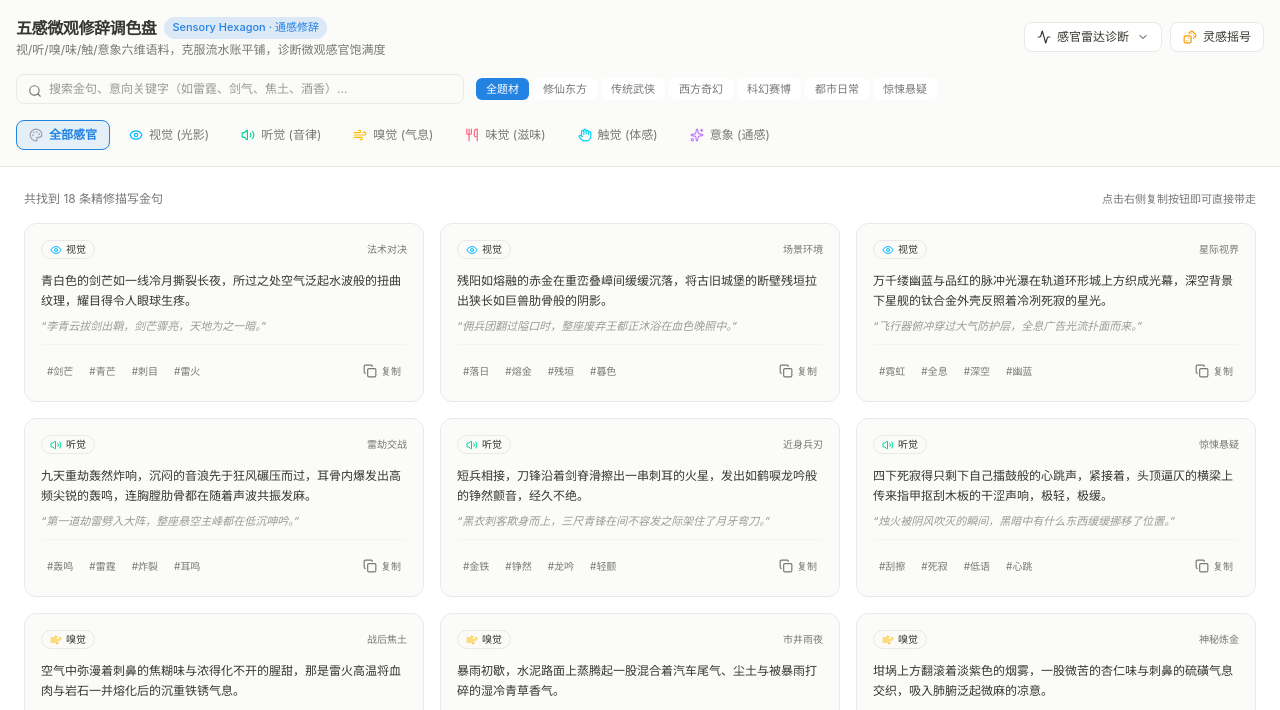
Test: DescribePaletteView — 五感微观修辞调色盘主视口 › allows expanding sensory diagnostic radar and typing text
Click the button "感官雷达诊断" at (1093, 37), box [1024,22,1162,52]
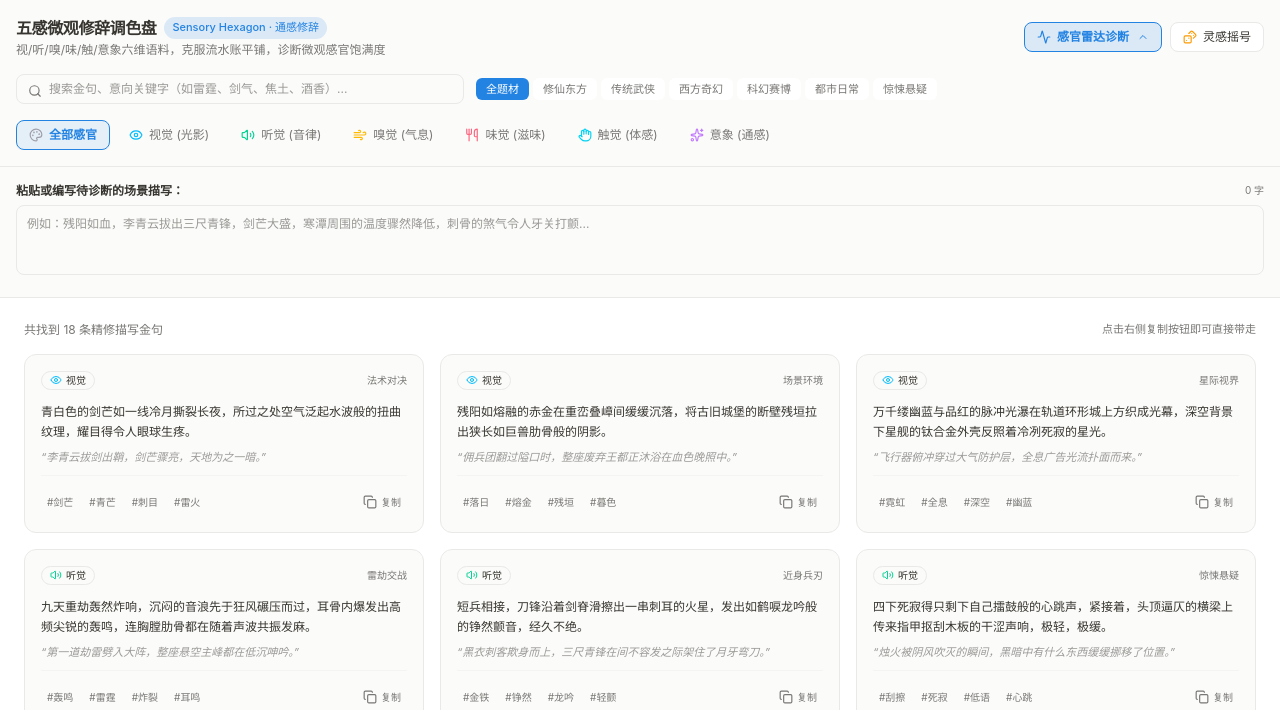
Type "白色的剑芒刺目而寒冷，雷声轰鸣震耳欲聋。" into the text box with placeholder "例如：残阳如血，李青云拔出三尺青锋，剑芒大盛，寒潭周围的温度骤然降低，刺骨的煞气令人牙关打颤..." at (640, 240), box [16,205,1264,275]
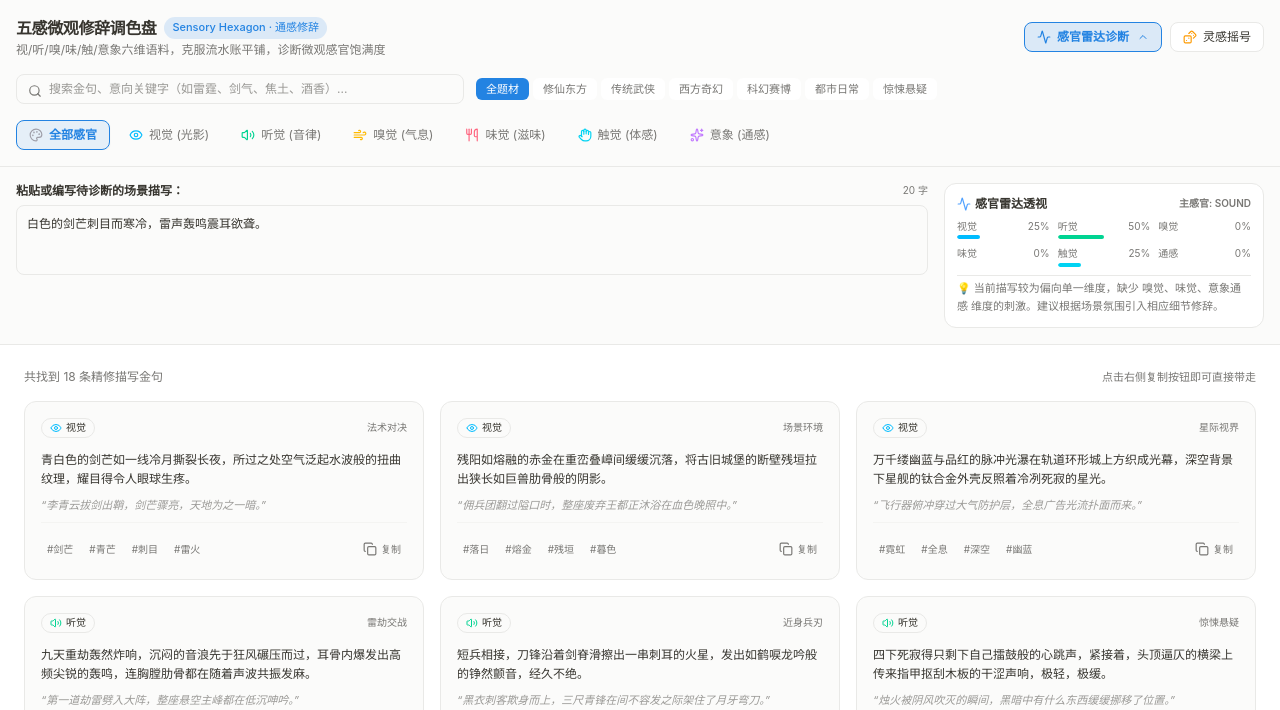
Expected: the text "感官雷达透视" is shown, [957,196,1047,212]
